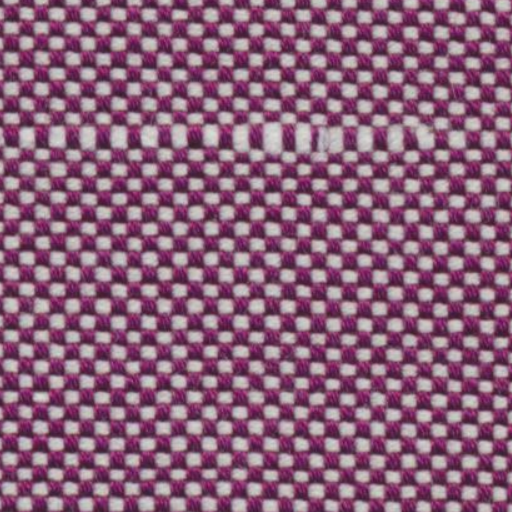DaiSha: (8, 98, 488, 170)
